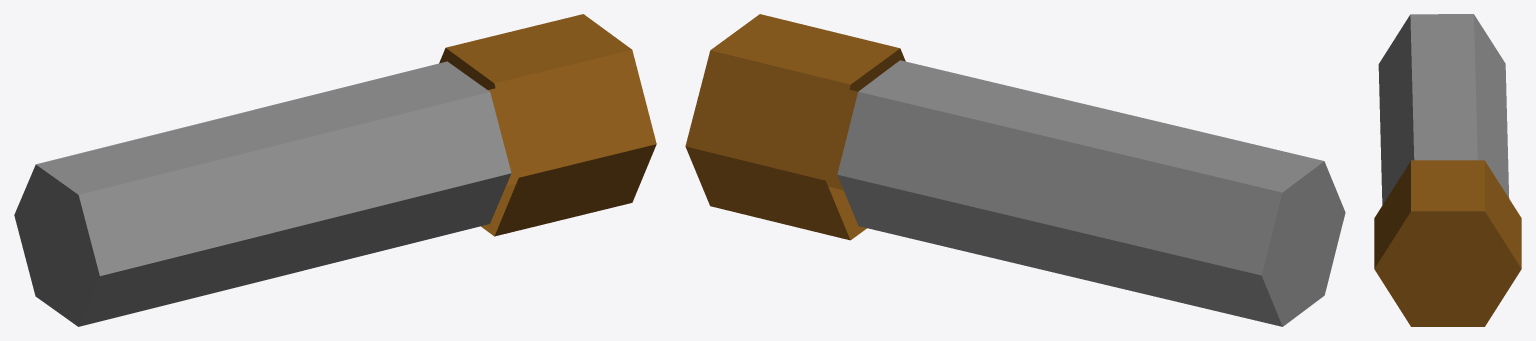
Rendered from bullet.glb.
The picture shows the model from 3 angles, left to right: view 1: azimuth 30°, elevation 25°; view 2: azimuth 150°, elevation 25°; view 3: azimuth 270°, elevation 25°; orthographic projection. The views are drawn at different scales.
Visible parts, largest first — view 1: Plane_Material.003_0.002, Plane_Material.003_0.001; view 2: Plane_Material.003_0.002, Plane_Material.003_0.001; view 3: Plane_Material.003_0.001, Plane_Material.003_0.002.
Boxes of the visible parts, x1,y1,x2,y2 form: Plane_Material.003_0.002: [14, 61, 511, 326]; Plane_Material.003_0.001: [439, 14, 656, 236]; Plane_Material.003_0.002: [837, 60, 1345, 326]; Plane_Material.003_0.001: [685, 14, 905, 240]; Plane_Material.003_0.001: [1374, 160, 1521, 326]; Plane_Material.003_0.002: [1378, 14, 1509, 204].
Size of the model in its own units: 0.2334 by 0.0615 by 0.071.
